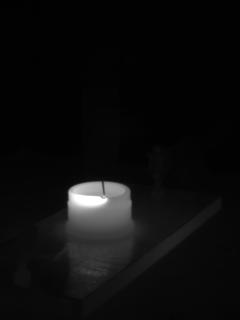tip_wire_left: (90, 172, 105, 198)
tip_wire_right: (102, 170, 118, 198)
